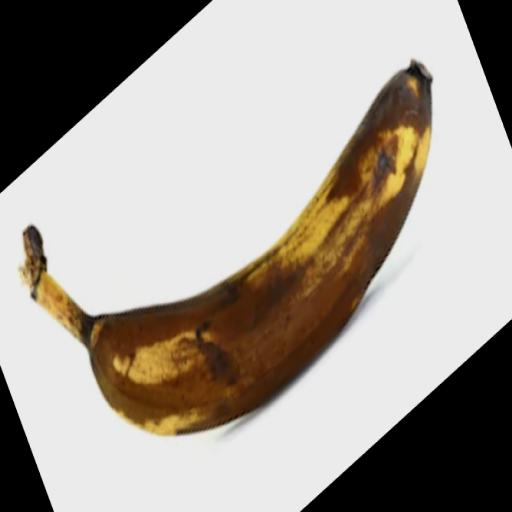banana-overripe: (9, 59, 453, 445)
